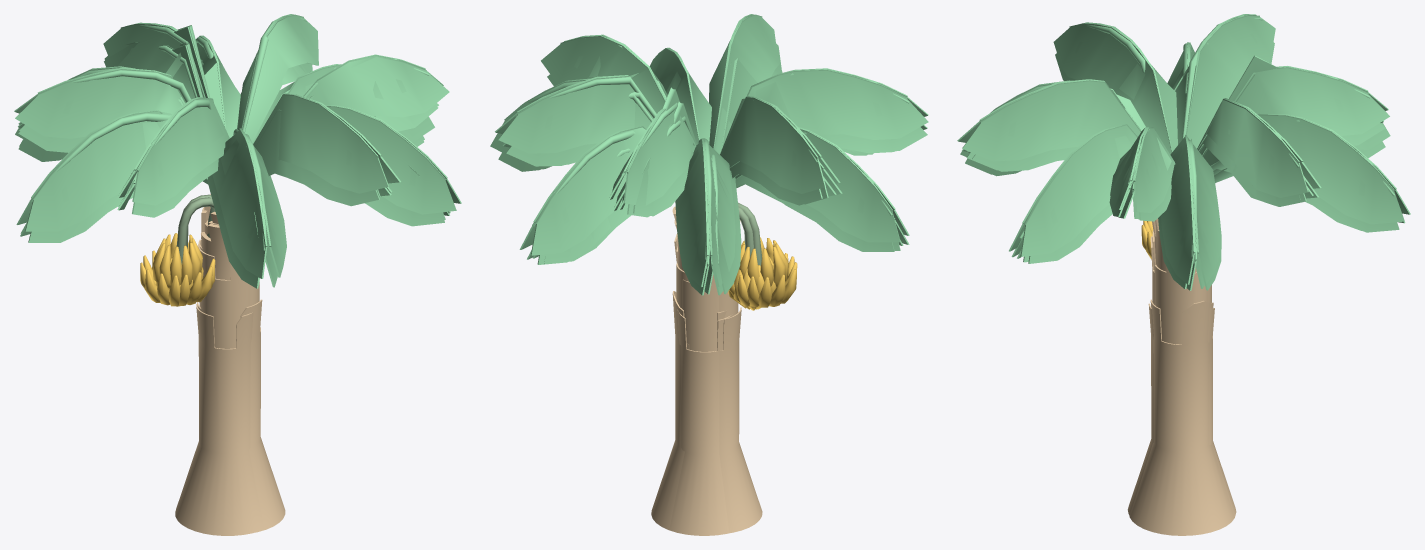
File: BananaPlants.fbx
3 views of the same model, side by side, from view 1: azimuth 30°, elevation 25°; view 2: azimuth 150°, elevation 25°; view 3: azimuth 270°, elevation 25° (orthographic).
Parts seen in each view (by area): view 1: BananaPlantNoBanan, BananaPlantLotBananas, BananaPlant; view 2: BananaPlantNoBanan, BananaPlant, BananaPlantLotBananas; view 3: BananaPlantNoBanan, BananaPlant, BananaPlantLotBananas.
Boxes of the visible parts, <box> form: BananaPlantNoBanan: <box>14,14,461,532</box>; BananaPlantLotBananas: <box>18,42,449,535</box>; BananaPlant: <box>18,42,450,508</box>; BananaPlantNoBanan: <box>490,14,928,535</box>; BananaPlant: <box>498,64,921,535</box>; BananaPlantLotBananas: <box>533,43,927,533</box>; BananaPlantNoBanan: <box>957,14,1410,535</box>; BananaPlant: <box>967,42,1405,516</box>; BananaPlantLotBananas: <box>962,53,1361,515</box>.
Size of the model in its own units: 363 by 387 by 349.
Materials: 3 (3 with a texture image).
